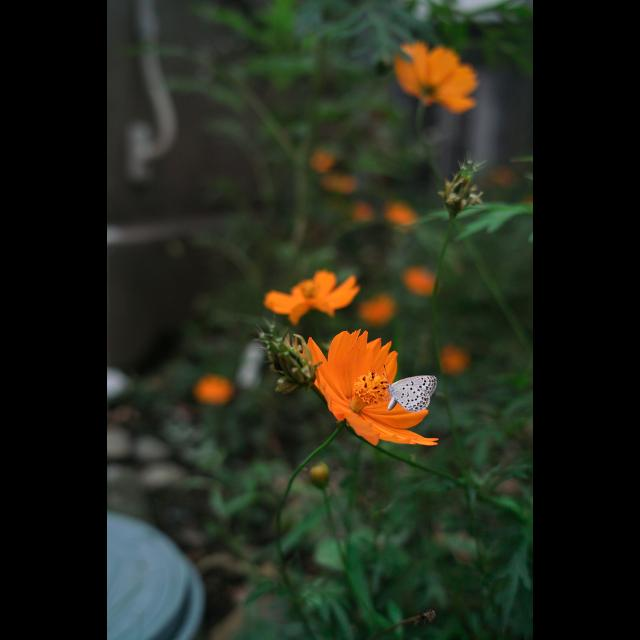Flower: (294, 327, 428, 447), (392, 38, 480, 118), (264, 267, 368, 319)
